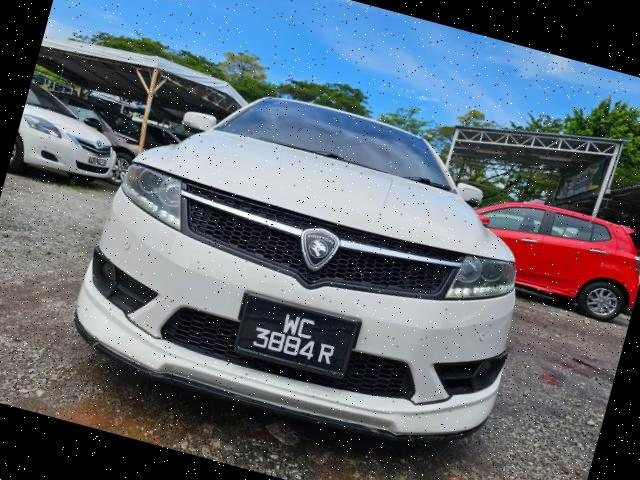License_Plate: (237, 292, 356, 376)
car: (63, 55, 557, 472)
